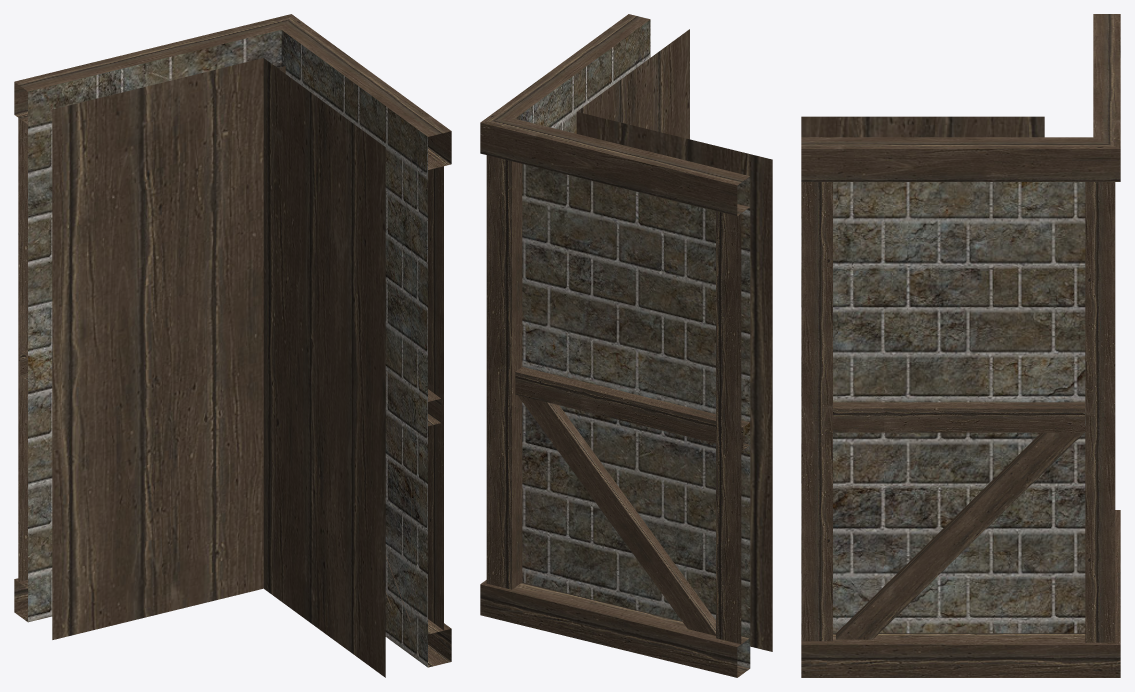
Rendered from ARC1010239.fbx.
The picture shows the model from 3 angles, left to right: view 1: azimuth 30°, elevation 25°; view 2: azimuth 150°, elevation 25°; view 3: azimuth 270°, elevation 25°; orthographic projection. The views are drawn at different scales.
Parts seen in each view (by area): view 1: smARC1010239; view 2: smARC1010239; view 3: smARC1010239.
Boxes of the visible parts, x1,y1,x2,y2 form: smARC1010239: (14, 14, 451, 677); smARC1010239: (480, 14, 772, 677); smARC1010239: (801, 14, 1120, 677).
Size of the model in its own units: 147 by 268 by 147.
1 material, 1 textured.
